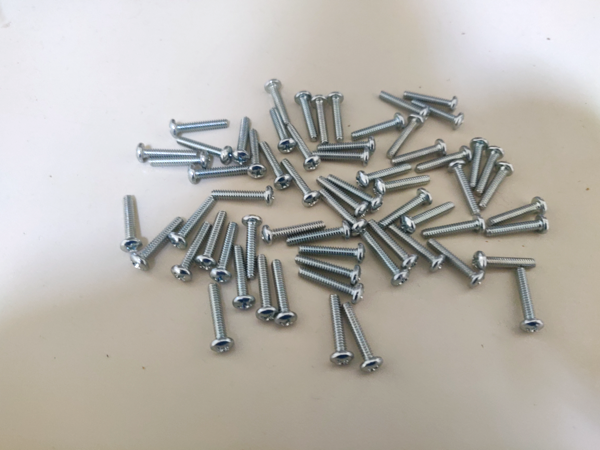longscrew: (346, 301, 386, 376), (131, 215, 186, 269), (198, 281, 234, 356), (393, 223, 445, 271), (433, 240, 484, 288), (364, 233, 408, 286), (372, 218, 416, 271), (297, 270, 365, 303), (328, 172, 385, 208), (489, 193, 551, 226), (174, 198, 216, 246), (174, 222, 209, 279), (318, 190, 362, 231), (519, 267, 544, 337), (402, 79, 460, 109), (423, 214, 489, 240), (411, 100, 468, 130), (298, 255, 361, 282), (319, 178, 366, 214), (263, 75, 296, 126), (283, 160, 320, 205), (380, 191, 430, 224), (448, 159, 478, 214), (287, 120, 320, 170), (389, 114, 424, 158), (178, 134, 231, 163), (291, 221, 352, 246), (200, 210, 226, 268), (378, 90, 430, 119), (272, 261, 293, 332), (264, 218, 325, 242), (120, 196, 143, 258), (488, 217, 550, 240), (331, 296, 351, 367), (234, 247, 255, 314), (475, 251, 538, 273), (478, 143, 505, 194), (300, 239, 366, 259), (390, 141, 445, 165), (261, 142, 289, 189), (214, 224, 235, 285), (267, 109, 296, 153), (213, 187, 280, 206), (401, 205, 454, 229), (295, 90, 320, 140), (308, 93, 333, 143), (323, 90, 348, 140), (417, 146, 471, 169), (241, 215, 261, 277), (352, 114, 407, 135), (181, 165, 247, 182), (486, 164, 511, 208), (357, 164, 418, 182), (376, 175, 436, 193), (173, 118, 232, 136), (133, 142, 198, 158), (248, 129, 268, 180), (260, 255, 274, 324), (150, 156, 214, 170), (313, 151, 372, 166), (319, 139, 377, 154), (472, 138, 488, 189), (235, 116, 252, 163)
